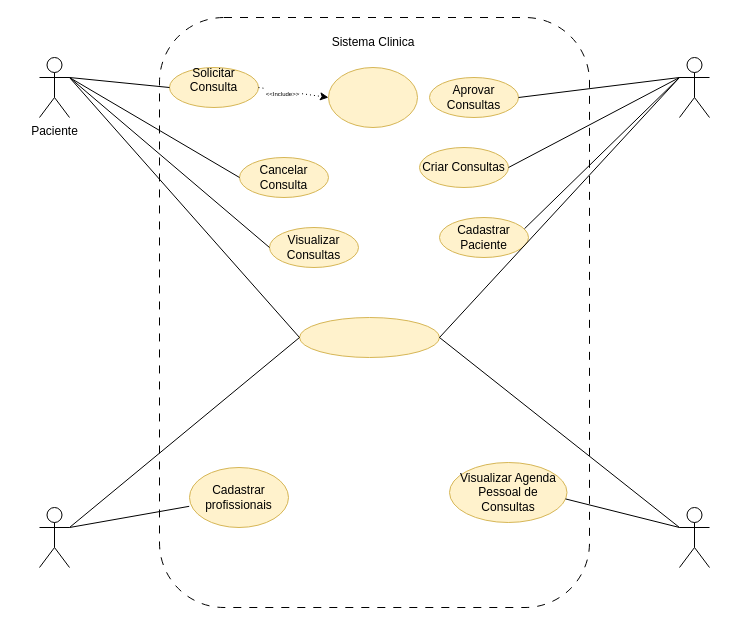
The diagram is 749 pixels wide and 625 high, and some of its shapes have lost their labels. Each missing label, with the centre of its shape:
Administrador: the point at 54,537
Checa Conflitos de horario: the point at 373,97
Login: the point at 369,337
Médico: the point at 694,537
Recepcionista: the point at 694,87
